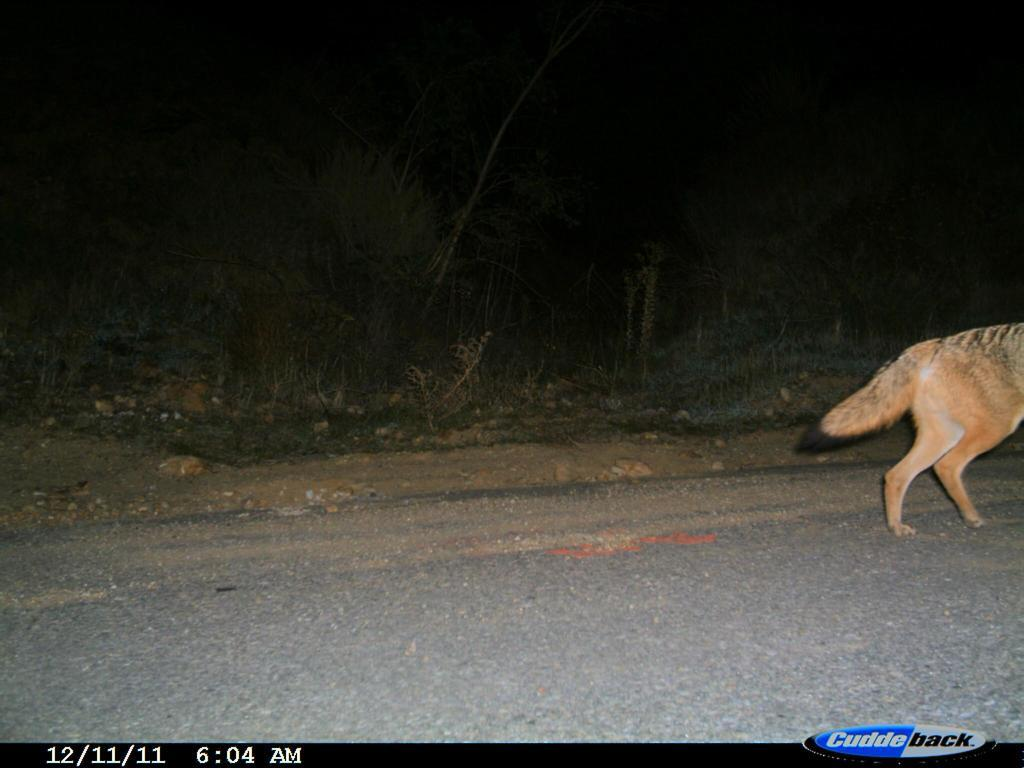coyote: (818, 303, 1021, 547)
